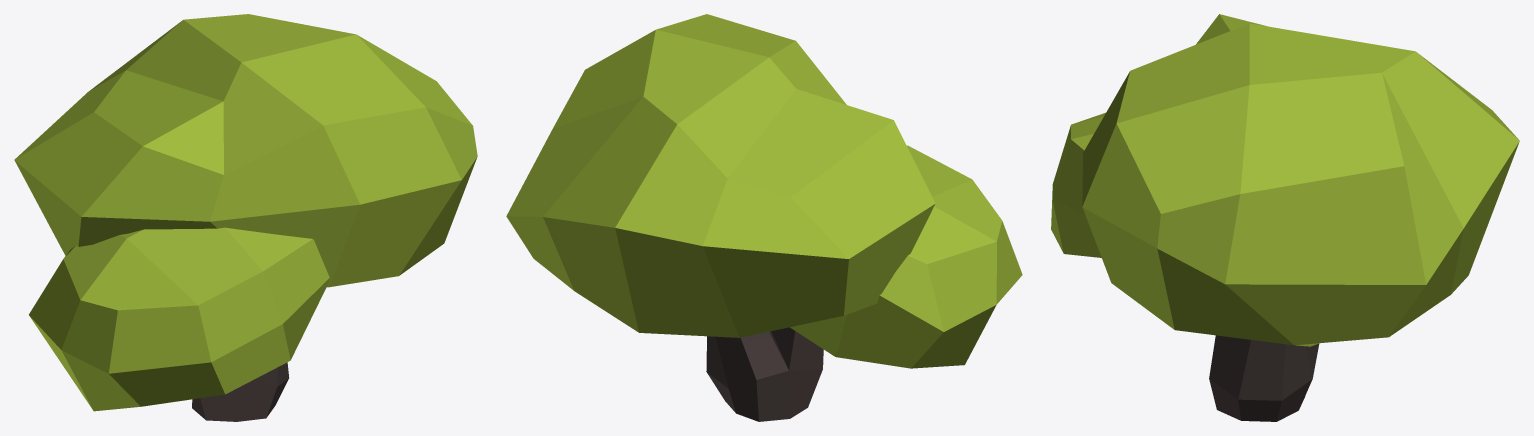
File: low_tree3.fbx
3 renders of one model, left to right at view 1: azimuth 30°, elevation 25°; view 2: azimuth 150°, elevation 25°; view 3: azimuth 270°, elevation 25°, orthographic. The views are drawn at different scales.
Parts seen in each view (by area): view 1: polySurface4, pCube13; view 2: polySurface4, pCube13; view 3: polySurface4, pCube13.
Part boxes in pixels (x1=…): polySurface4: x1=14, y1=14, x2=477, y2=411; pCube13: x1=192, y1=362, x2=289, y2=421; polySurface4: x1=506, y1=14, x2=1022, y2=368; pCube13: x1=706, y1=327, x2=823, y2=421; polySurface4: x1=1051, y1=14, x2=1519, y2=346; pCube13: x1=1209, y1=335, x2=1319, y2=421.
Size of the model in its own units: 8.14 by 6.59 by 7.34.
